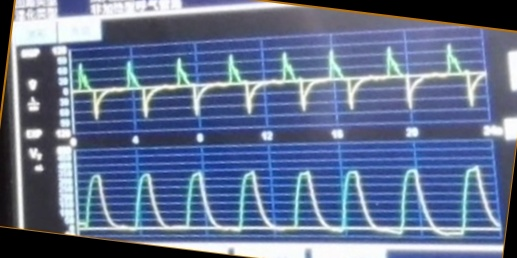Accumulation Flow: (75, 44, 483, 122)
Volume: (81, 163, 498, 237)
